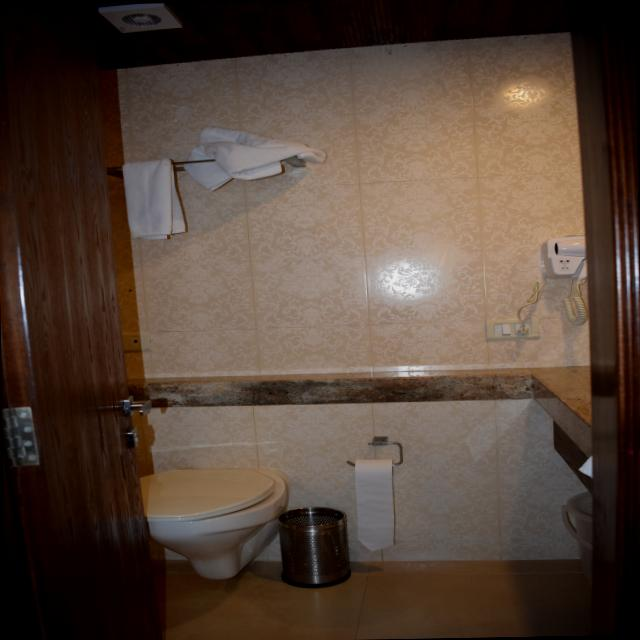mess: (91, 120, 303, 240)
